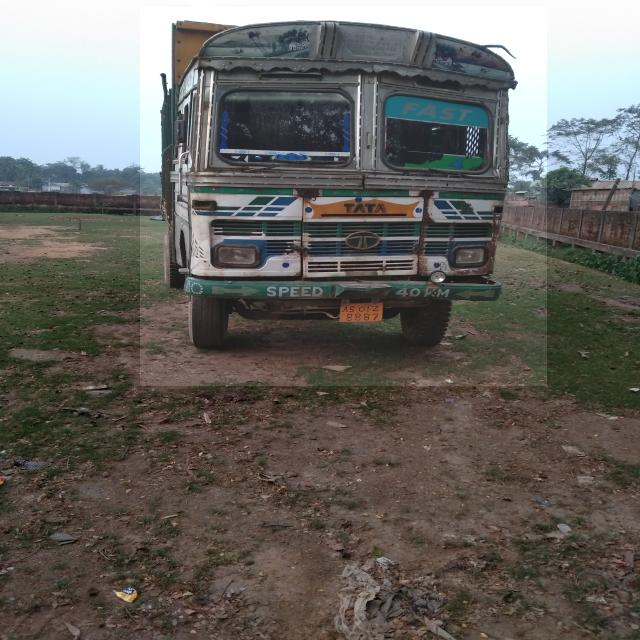Truck: (140, 7, 547, 386)
